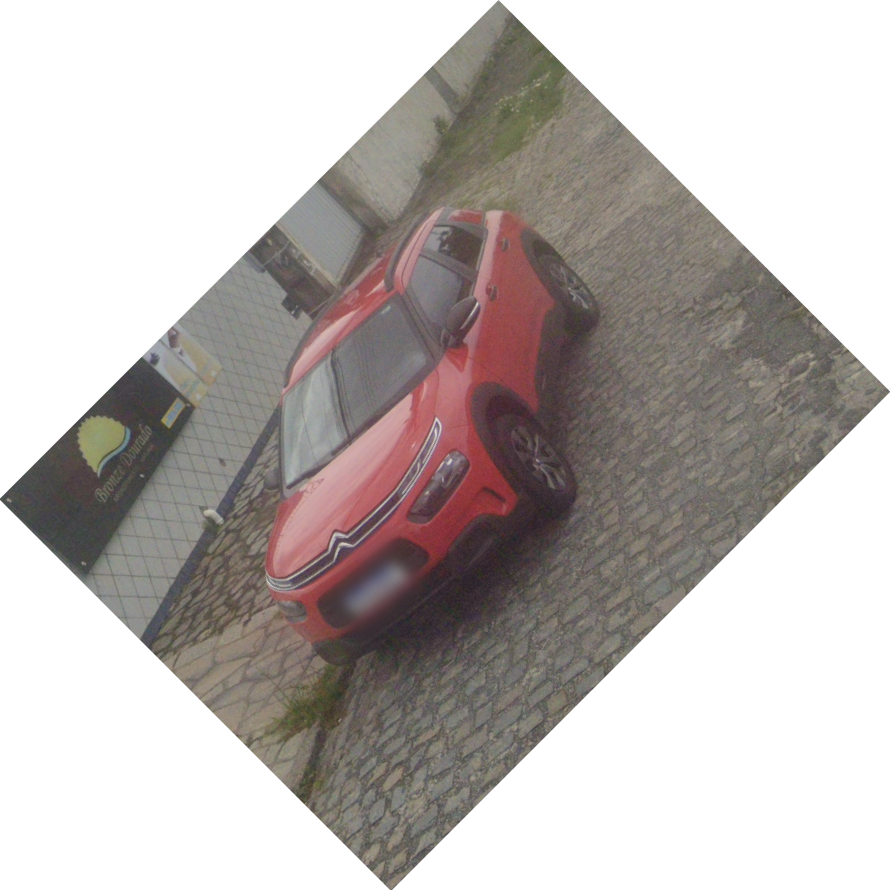car: (262, 203, 601, 675)
